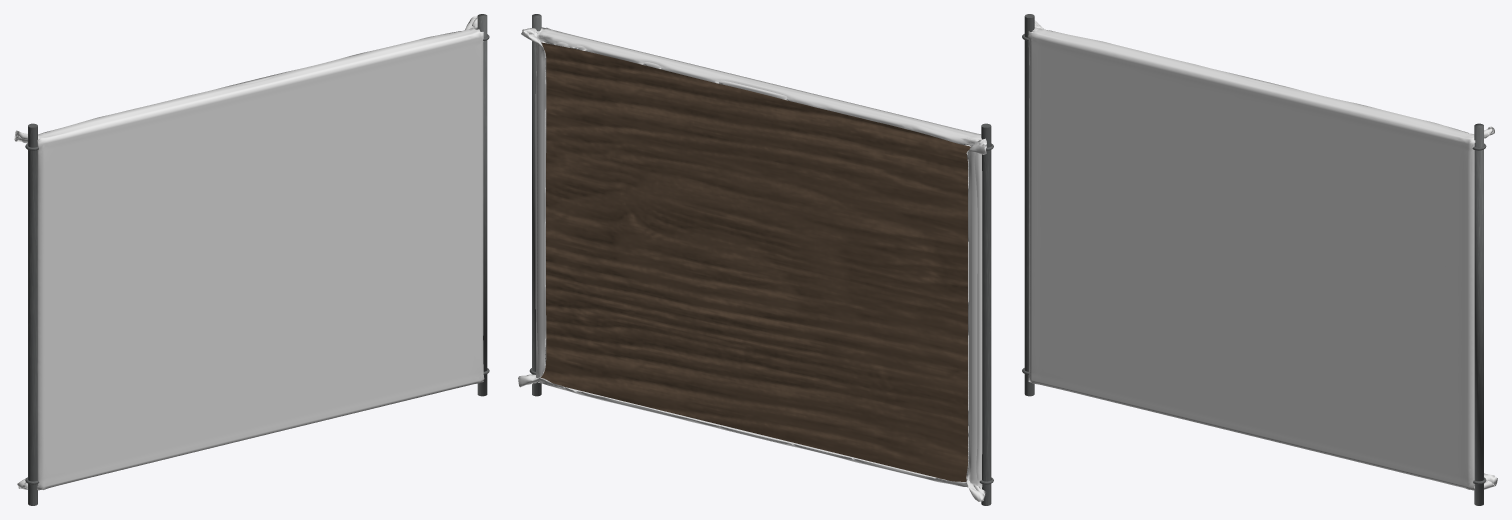
File: bannierezevent.fbx
3 renders of one model, left to right at view 1: azimuth 30°, elevation 25°; view 2: azimuth 150°, elevation 25°; view 3: azimuth 330°, elevation 25°, orthographic.
Parts seen in each view (by area): view 1: Bannière, Poutre, Poutre.001; view 2: Plank, Bannière, Poutre, Poutre.001; view 3: Bannière, Poutre.001, Poutre.
Boxes of the visible parts, x1=… form: Bannière: x1=14, y1=16, x2=484, y2=490; Poutre: x1=28, y1=123, x2=37, y2=505; Poutre.001: x1=477, y1=14, x2=487, y2=396; Plank: x1=540, y1=42, x2=970, y2=481; Bannière: x1=518, y1=27, x2=986, y2=501; Poutre: x1=981, y1=123, x2=991, y2=505; Poutre.001: x1=532, y1=14, x2=541, y2=396; Bannière: x1=1028, y1=20, x2=1497, y2=490; Poutre.001: x1=1474, y1=123, x2=1483, y2=505; Poutre: x1=1024, y1=14, x2=1034, y2=396.
Bounding box in the file's own units: 880 × 680 × 51.66.
